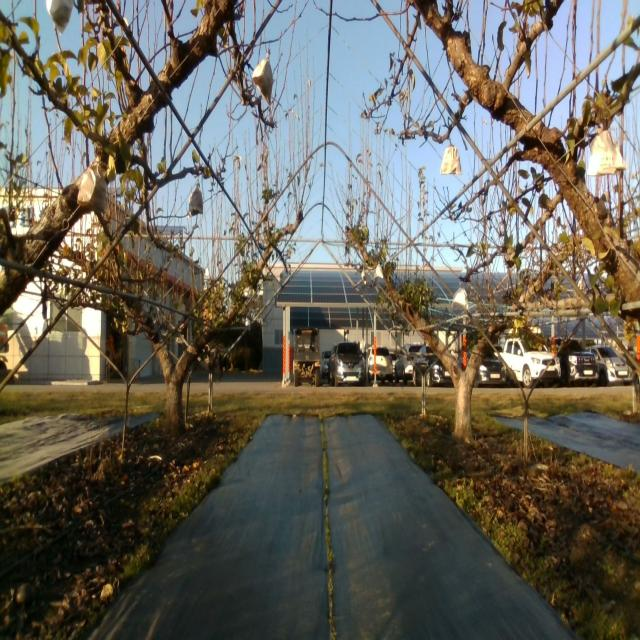pearbags: (586, 128, 628, 176), (77, 154, 108, 208), (251, 48, 273, 107), (439, 136, 462, 175), (187, 180, 204, 217), (452, 282, 468, 311)
